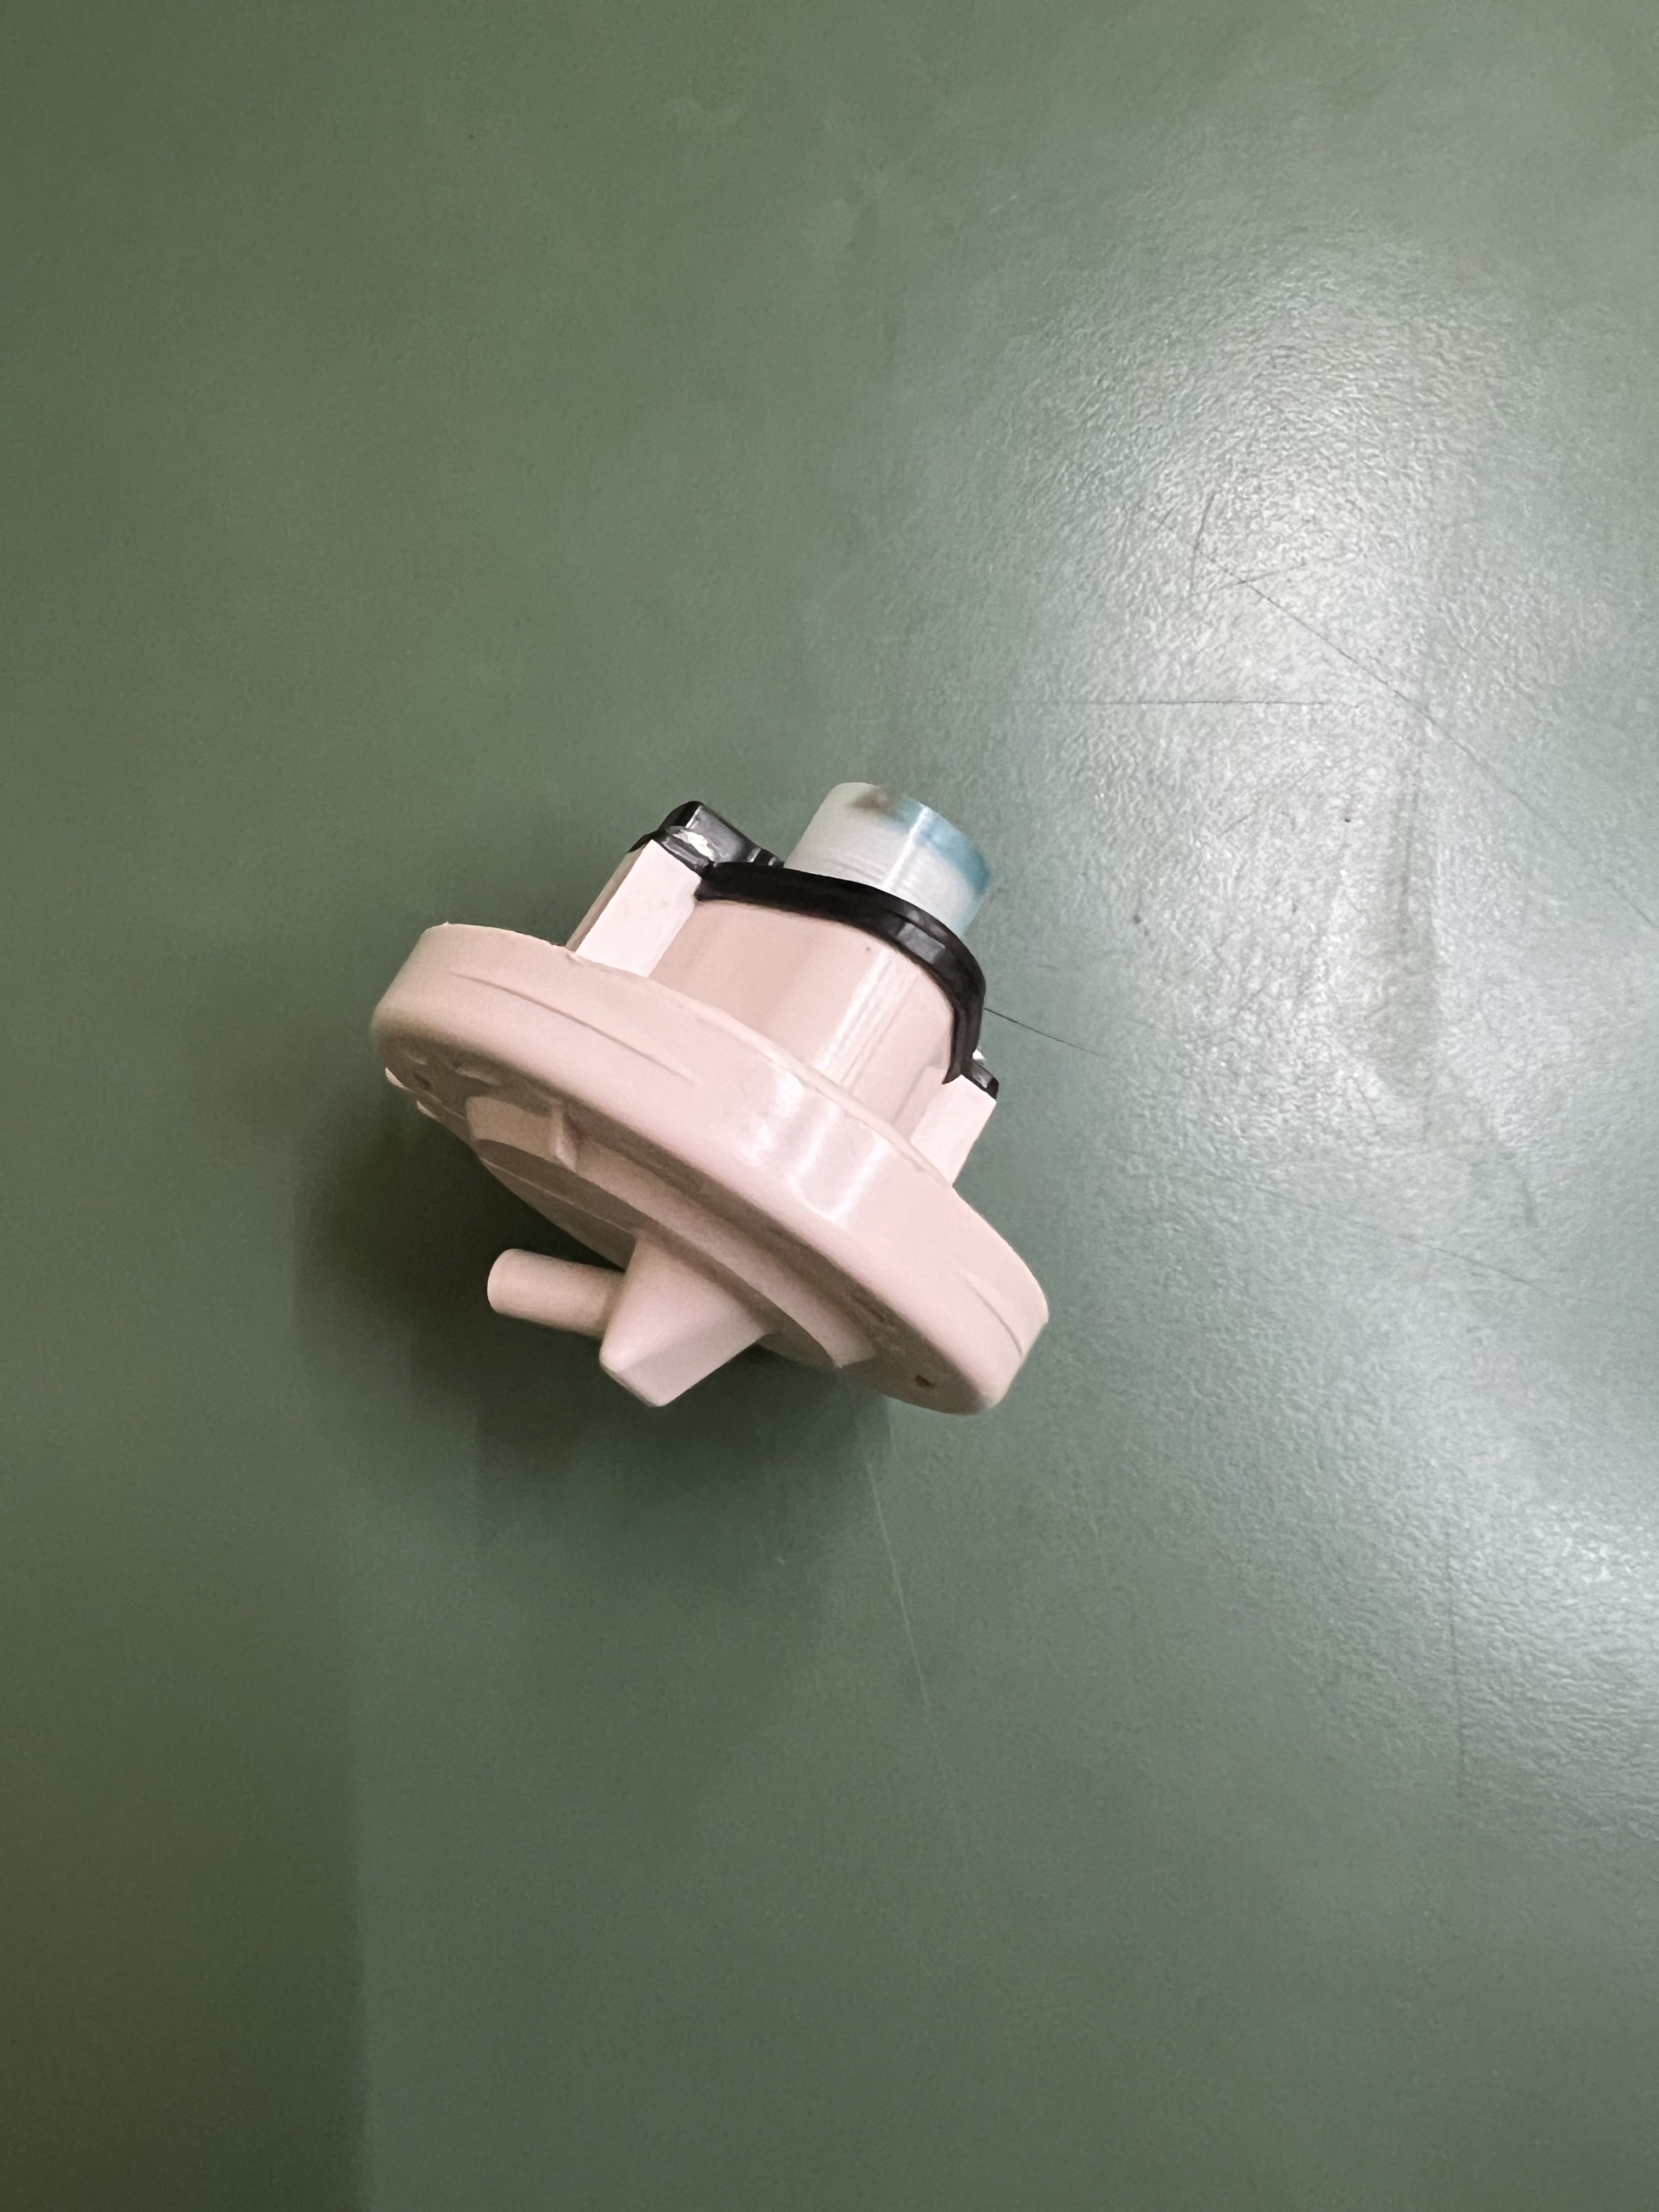pressure_sensor: (351, 748, 1109, 1459)
